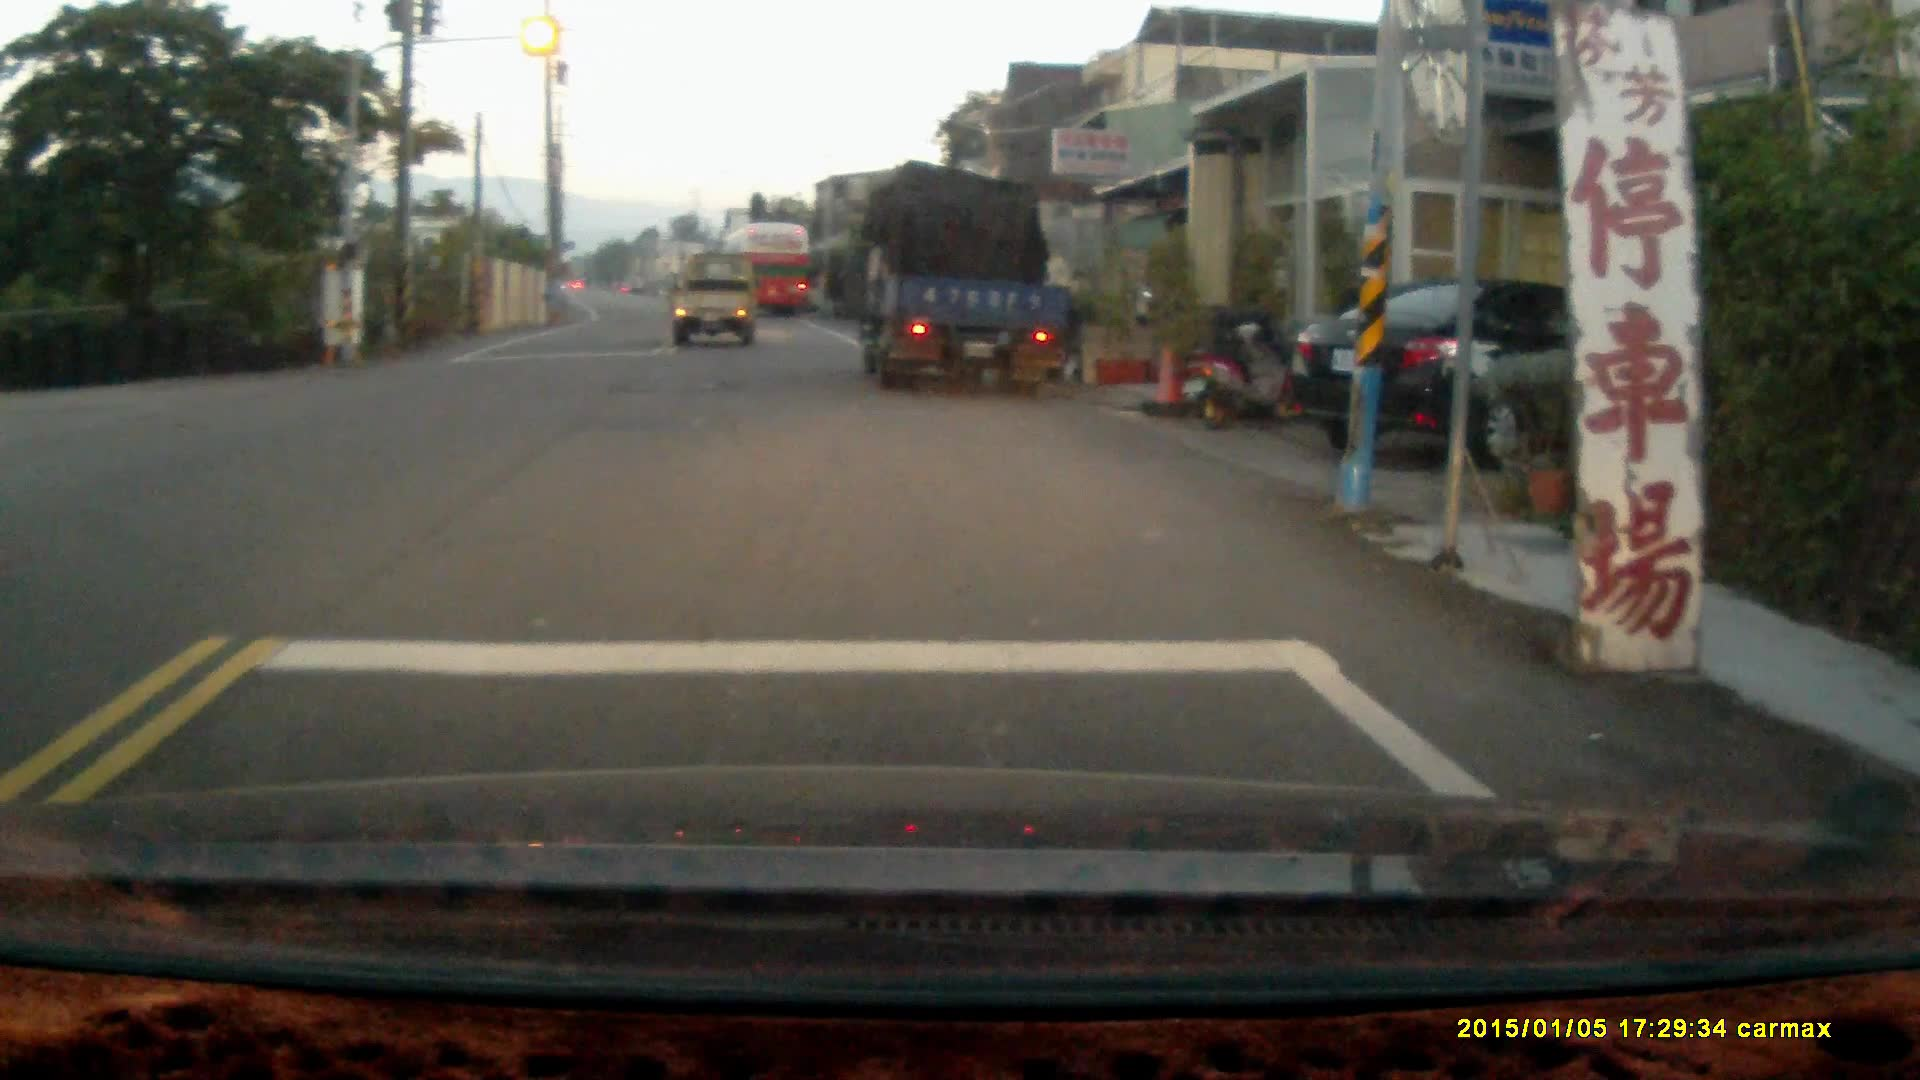vehicle: (1282, 284, 1725, 473), (862, 173, 1083, 392), (723, 224, 818, 326), (674, 256, 764, 345)
